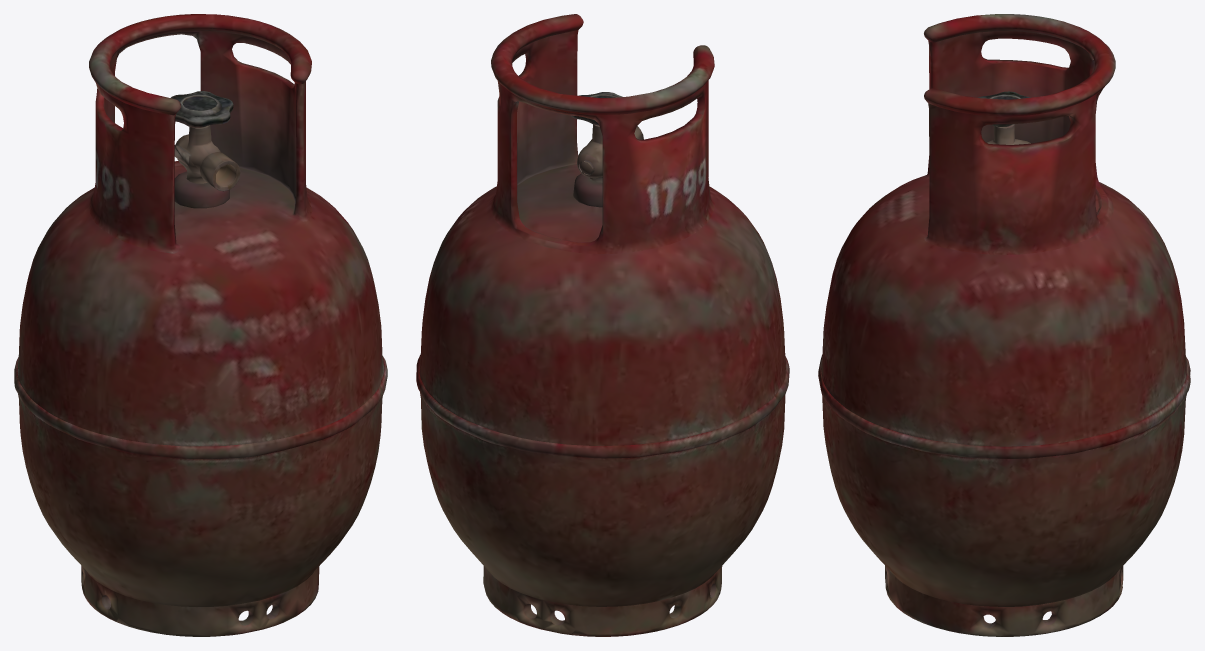
Rendered from small_lpg_tank.glb.
The picture shows the model from 3 angles, left to right: view 1: azimuth 30°, elevation 25°; view 2: azimuth 150°, elevation 25°; view 3: azimuth 270°, elevation 25°; orthographic projection.
Parts seen in each view (by area): view 1: small_lpg_tank; view 2: small_lpg_tank; view 3: small_lpg_tank.
Part boxes in pixels (x1,y1,x2,y2): small_lpg_tank: [14, 14, 387, 636]; small_lpg_tank: [416, 14, 789, 636]; small_lpg_tank: [818, 14, 1190, 636].
Size of the model in its own units: 0.4099 by 0.642 by 0.4092.
1 material, 1 textured.
